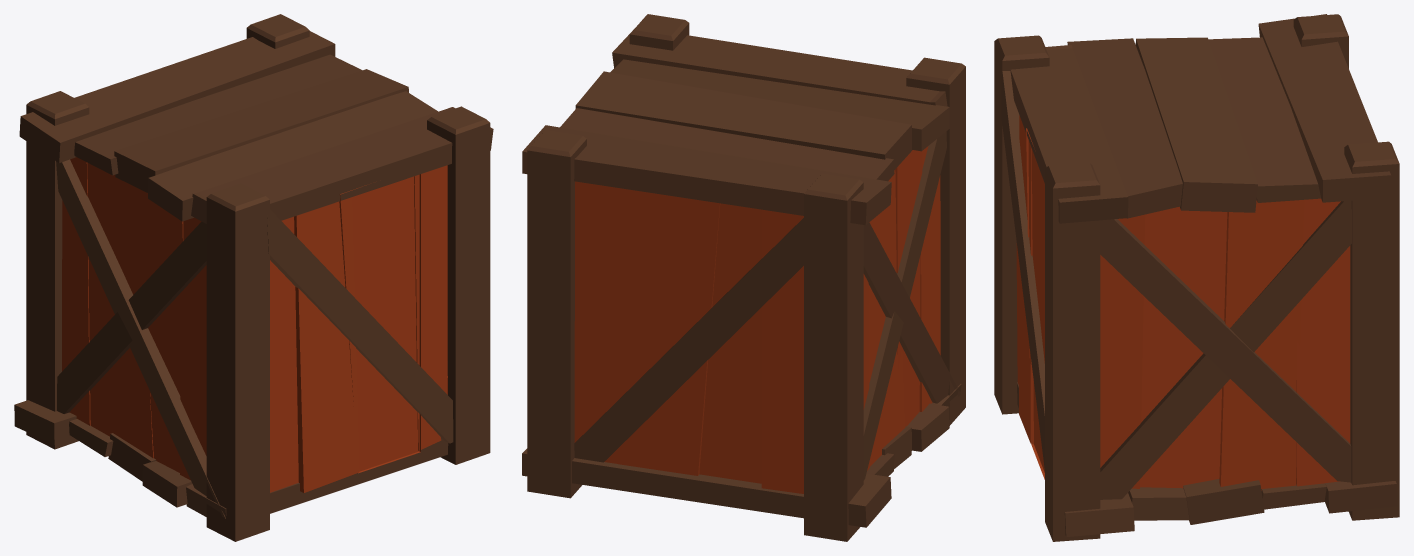
3 renders of one model, left to right at view 1: azimuth 30°, elevation 25°; view 2: azimuth 150°, elevation 25°; view 3: azimuth 270°, elevation 25°, orthographic. The views are drawn at different scales.
Visible parts, largest first — view 1: Cube.003, Cube.001, Cube.006, Cube.004, Cube.027, Cube.008, Cube.026, Cube.029; view 2: Cube.003, Cube.007, Cube.001, Cube.025, Cube.004, Cube.026, Cube.008, Cube.029; view 3: Cube.003, Cube.005, Cube.001, Cube.024, Cube.028, Cube.006, Cube.027, Cube.029.
Boxes of the visible parts, x1,y1,x2,y2 form: Cube.003: (14, 31, 493, 516); Cube.001: (26, 28, 490, 541); Cube.006: (270, 165, 447, 492); Cube.004: (62, 157, 206, 480); Cube.027: (267, 209, 453, 443); Cube.008: (56, 159, 225, 518); Cube.026: (57, 221, 206, 413); Cube.029: (26, 14, 489, 211); Cube.003: (522, 29, 961, 527); Cube.007: (574, 181, 803, 493); Cube.001: (527, 23, 965, 541); Cube.025: (574, 218, 803, 462); Cube.004: (863, 146, 940, 470); Cube.026: (863, 131, 946, 480); Cube.008: (863, 222, 960, 403); Cube.029: (527, 14, 965, 200); Cube.003: (1010, 14, 1397, 536); Cube.005: (1100, 198, 1350, 490); Cube.001: (994, 20, 1399, 541); Cube.024: (1100, 219, 1351, 482); Cube.028: (1100, 200, 1351, 499); Cube.006: (1016, 115, 1044, 479); Cube.027: (1001, 71, 1044, 470); Cube.029: (994, 14, 1399, 188).
Bounding box in the file's own units: 456 × 414 × 426.
